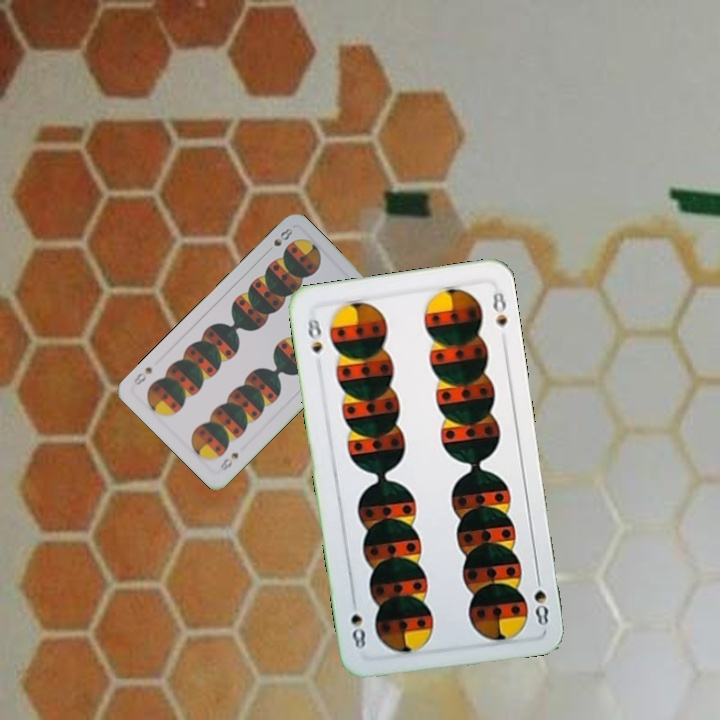S8: (530, 569, 551, 629), (262, 224, 295, 256), (304, 314, 325, 356), (216, 448, 241, 474)
